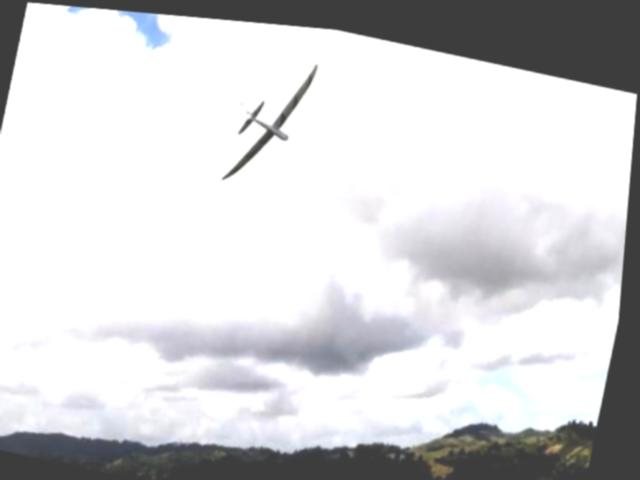iha: (217, 41, 326, 201)
